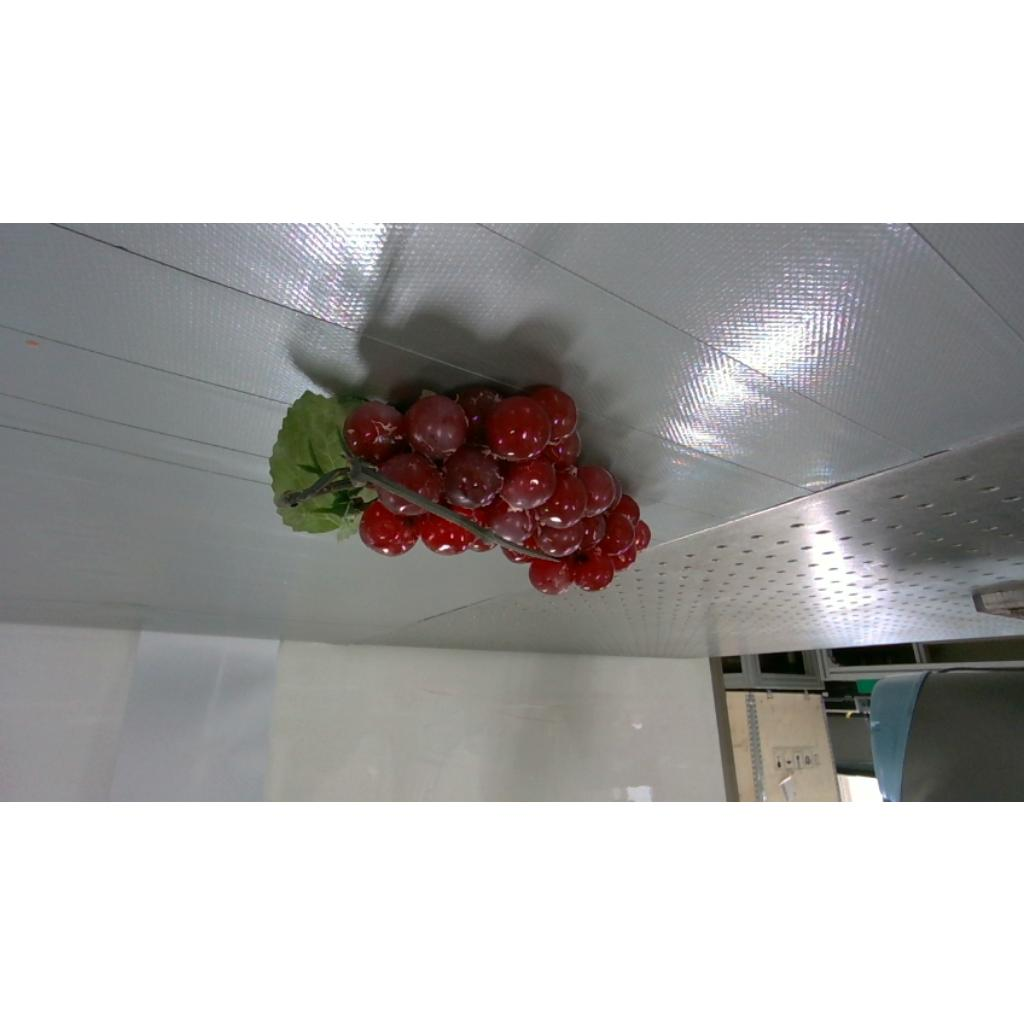grape: (270, 386, 650, 593)
